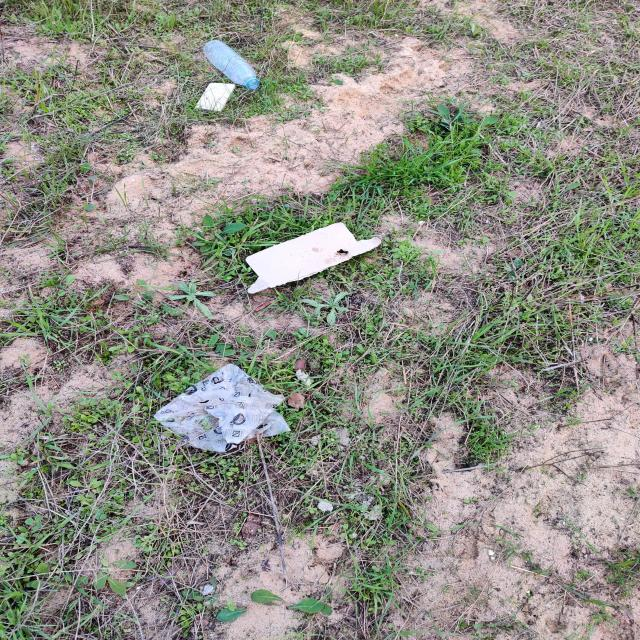litter: (237, 201, 399, 312), (191, 37, 264, 97)
